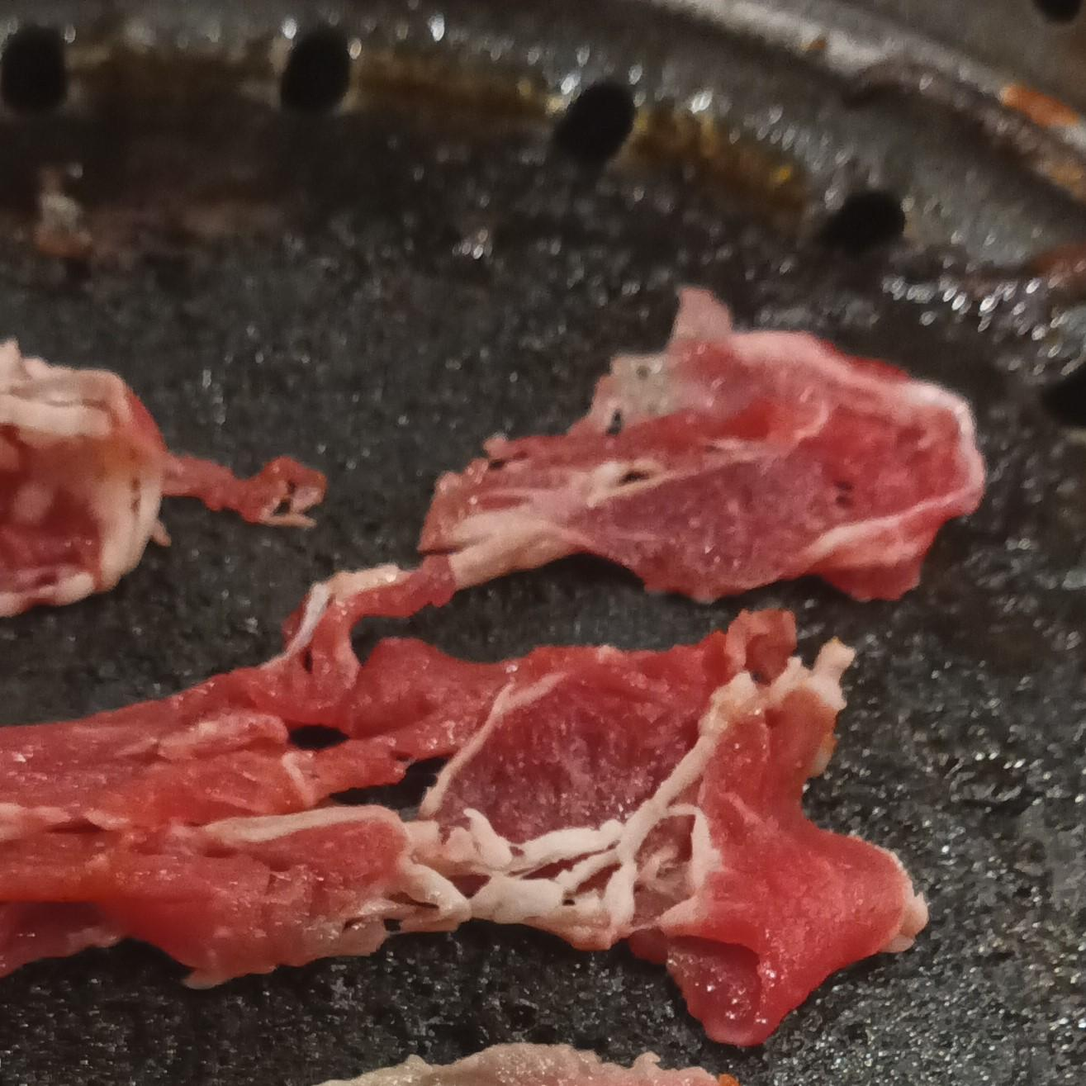Undercooked: (0, 566, 927, 1046), (420, 306, 984, 602), (0, 341, 325, 615)
